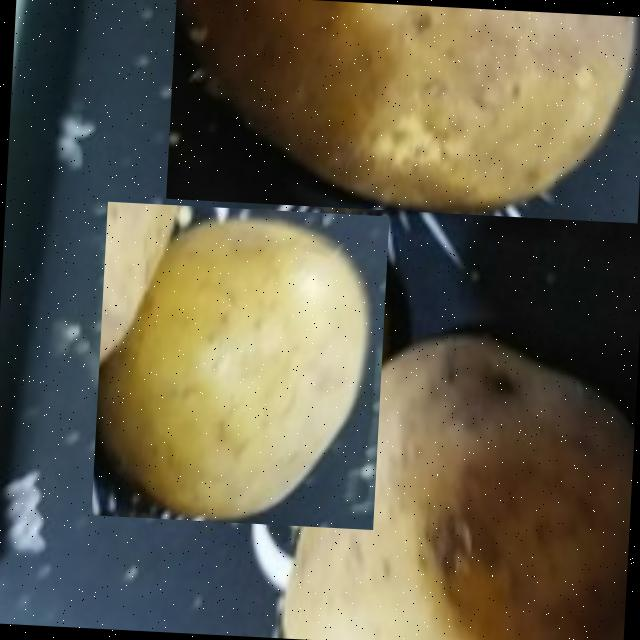Damaged potato: (281, 323, 639, 640), (166, 0, 640, 222)
Potato: (92, 201, 390, 529)
